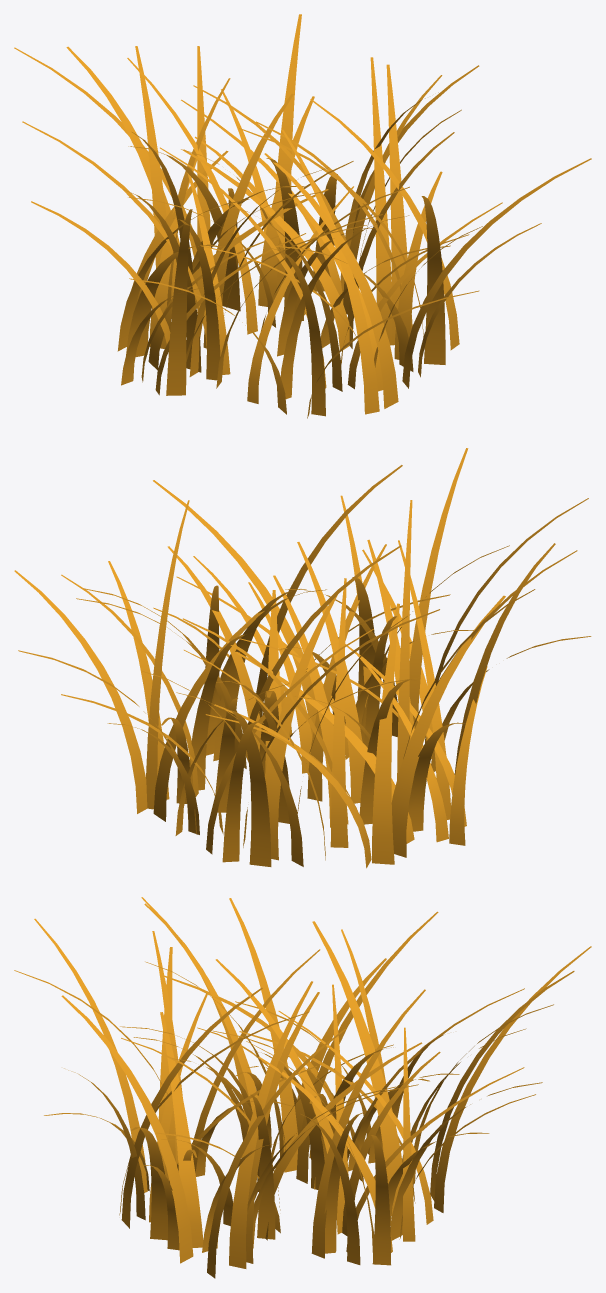
Rendered from Dry Grass.fbx.
3 views of the same model, one above another, from view 1: azimuth 30°, elevation 25°; view 2: azimuth 150°, elevation 25°; view 3: azimuth 270°, elevation 25° (orthographic). The views are drawn at different scales.
Visible parts, largest first — view 1: Dry_Grass; view 2: Dry_Grass; view 3: Dry_Grass.
Boxes of the visible parts, <box> form: Dry_Grass: <box>14,14,591,418</box>; Dry_Grass: <box>14,448,591,868</box>; Dry_Grass: <box>14,897,591,1278</box>.
Bounding box in the file's own units: 91.17 × 46.95 × 103.
